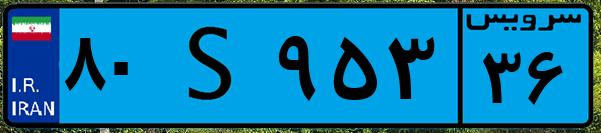0: (110, 28, 158, 98)
3: (385, 28, 445, 110), (475, 38, 525, 113)
5: (330, 28, 385, 110)
6: (525, 38, 570, 115)
8: (57, 26, 110, 100)
9: (270, 28, 330, 110)
S: (158, 12, 270, 120)
